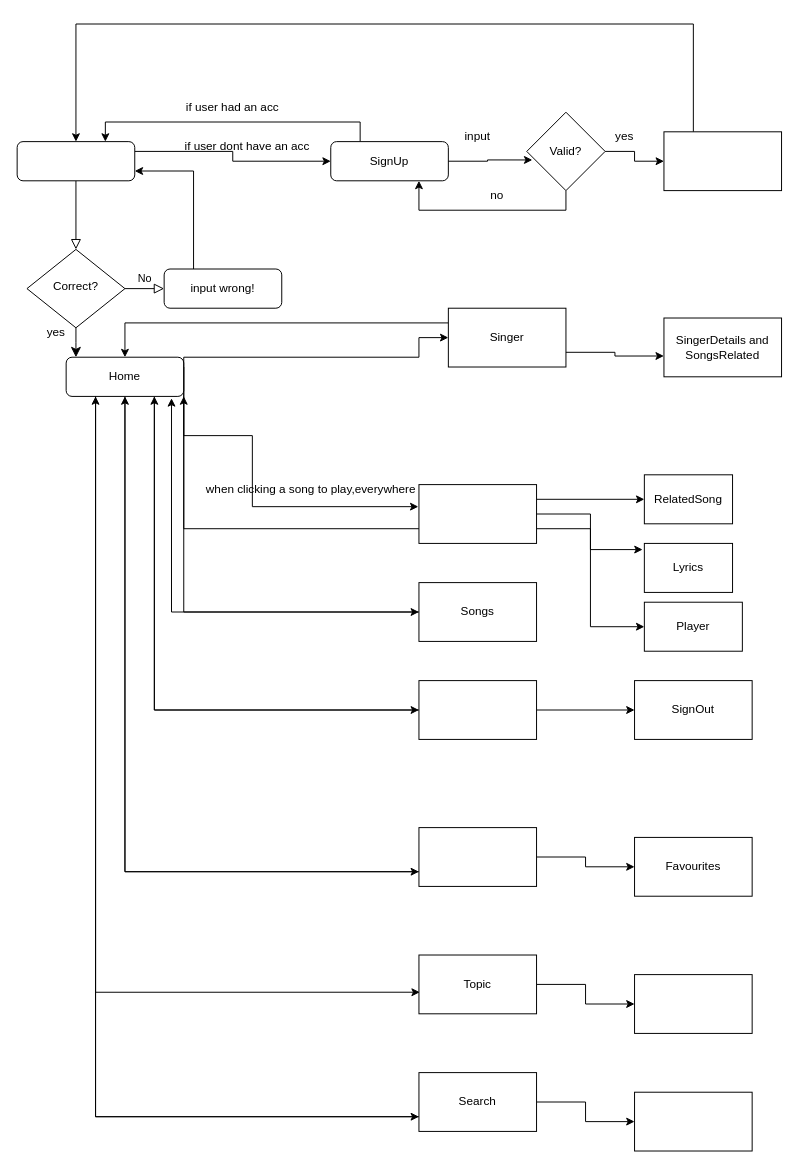
The diagram is 799 pixels wide and 1168 high, and some of its shapes have lost their labels. The shapes that lost their labels are listed below. From the top down, each one's centre as x and y in pixels, then its label:
the point at 75,161: SignIn
the point at 722,161: Complete!
the point at 477,513: Mediaplayer
the point at 477,709: Account
the point at 477,856: Playlist
the point at 693,1003: SongsByTopic
the point at 693,1121: Result
